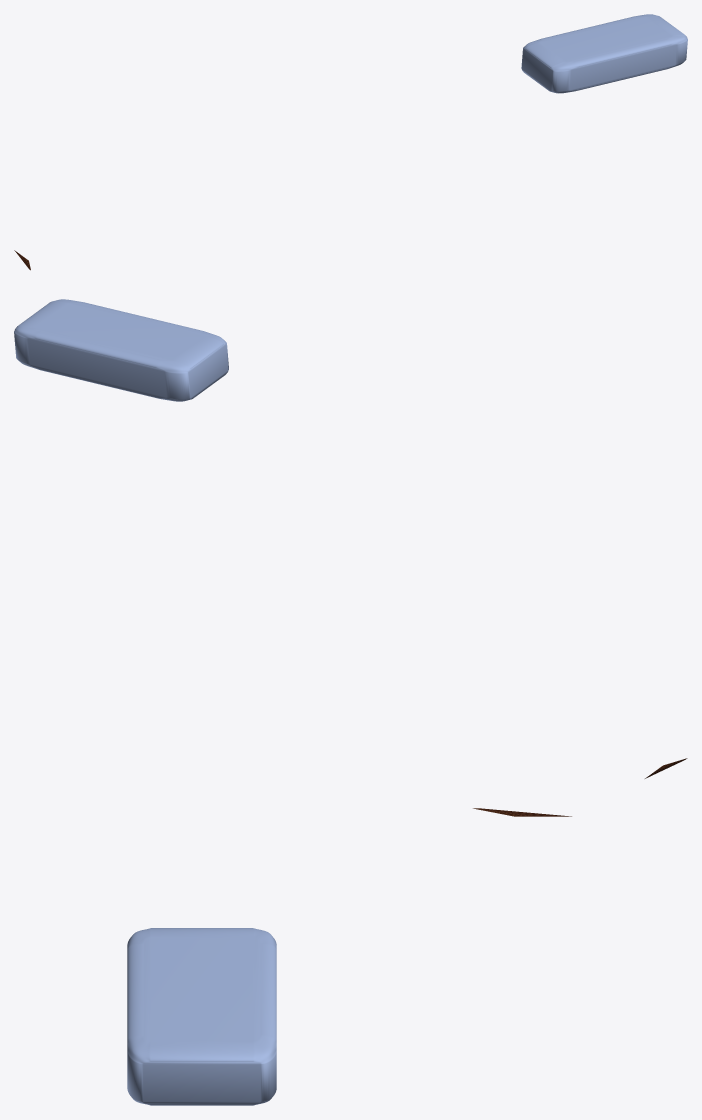
Rendered from mainKey.glb.
The picture shows the model from 3 angles, top to bottom: view 1: azimuth 30°, elevation 25°; view 2: azimuth 150°, elevation 25°; view 3: azimuth 270°, elevation 25°; orthographic projection. The views are drawn at different scales.
Visible parts, largest first — view 1: White_11; view 2: White_11; view 3: White_11.
Part boxes in pixels (bbox=[...]): White_11: bbox=[521, 14, 687, 93]; White_11: bbox=[14, 299, 228, 401]; White_11: bbox=[127, 928, 276, 1105].
Size of the model in its own units: 6.76 by 1.77 by 2.28.
Materials: 2 (1 with a texture image).
